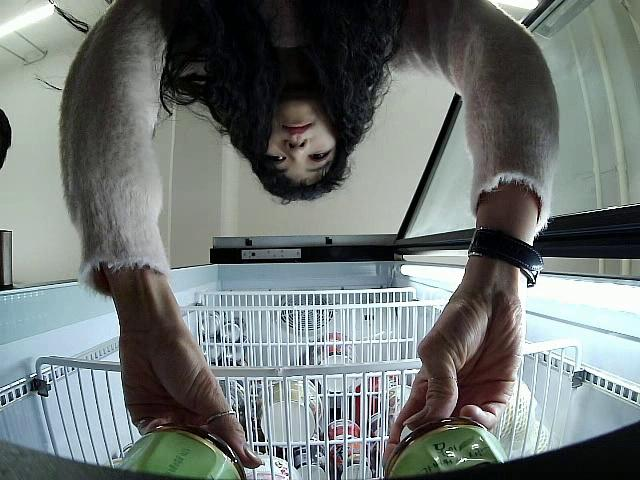00_hand: (384, 297, 521, 466), (119, 326, 262, 467)
19_17cha: (384, 417, 511, 480), (123, 426, 248, 480)
